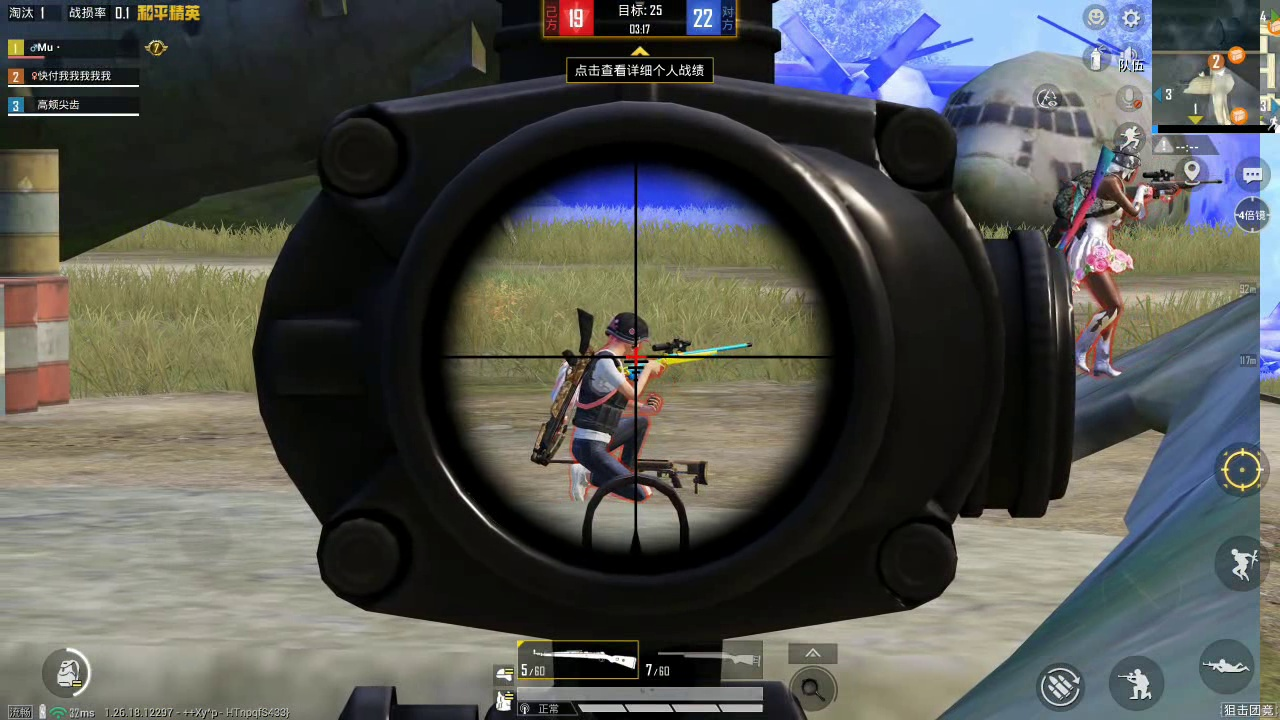enemy: (1060, 147, 1161, 375), (571, 305, 657, 512)
